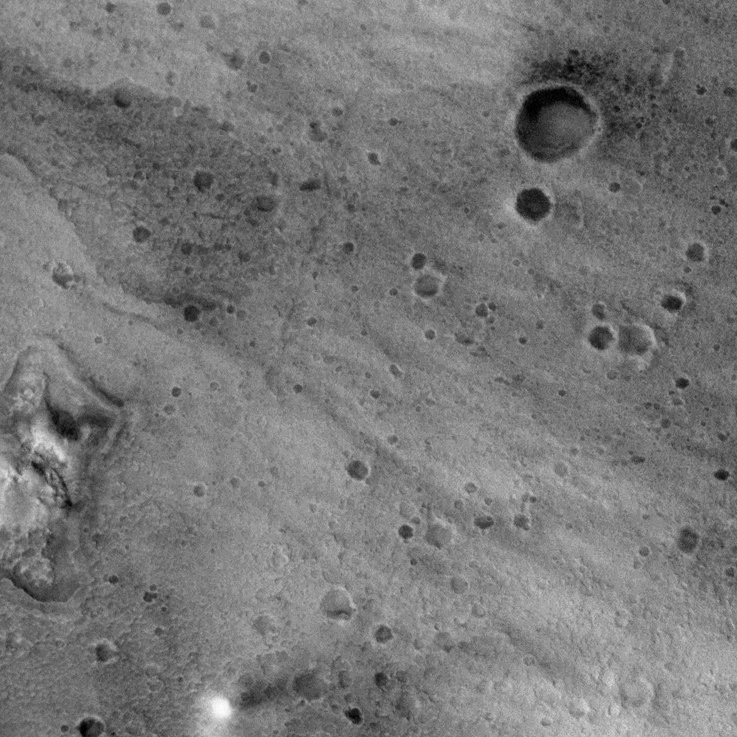dust_devil: (207, 673, 322, 721)
